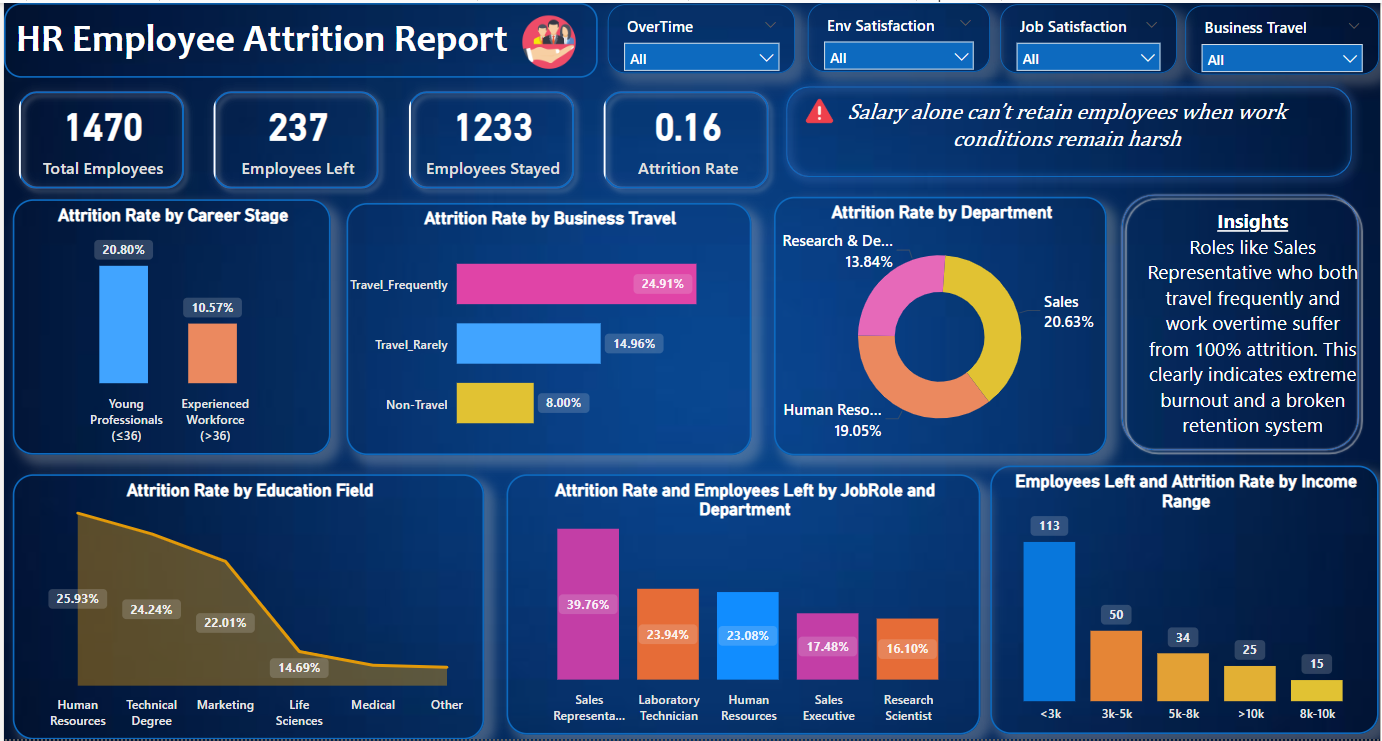

Layout of this report page (visuals, bound fields, positions):
{"tool":"powerbi","page":{"name":"Home","canvas":[1340,717],"ordinal":0},"visuals":[{"type":"cardVisual","fields":{"Data":["HR_Employee_attrition.Total Employees","HR_Employee_attrition.Employees Left","HR_Employee_attrition.Employees Stayed","HR_Employee_attrition.Attrition Rate"]},"box":[0,73.1,762.3,121.8],"z":0},{"type":"textbox","box":[0,0,578.4,73.1],"z":1000},{"type":"columnChart","title":"Attrition Rate by Career Stage","fields":{"Category":["HR_Employee_attrition.Age Group"],"Y":["HR_Employee_attrition.Attrition Rate"]},"box":[8.5,191.2,309.3,248.4],"z":2000},{"type":"clusteredBarChart","title":"Attrition Rate by Business Travel","fields":{"Category":["HR_Employee_attrition.BusinessTravel"],"Y":["HR_Employee_attrition.Attrition Rate"]},"box":[333.7,194.8,394.5,246],"z":3000},{"type":"stackedAreaChart","title":"Attrition Rate by Education Field","fields":{"Category":["HR_Employee_attrition.EducationField"],"Y":["HR_Employee_attrition.Attrition Rate"]},"box":[8.5,459.1,459.1,258.2],"z":4000},{"type":"slicer","fields":{"Values":["HR_Employee_attrition.OverTime"]},"box":[588.2,1.2,182.7,67],"z":5000},{"type":"slicer","fields":{"Values":["HR_Employee_attrition.Env_Satisfaction_Label"]},"box":[783,0,177.8,67],"z":6000},{"type":"columnChart","fields":{"Category":["HR_Employee_attrition.JobRole"],"Series":["HR_Employee_attrition.Department"],"Y":["HR_Employee_attrition.Attrition Rate"]},"box":[489.5,459.1,461.5,253.3],"z":7000},{"type":"slicer","fields":{"Values":["HR_Employee_attrition.Job Satisfaction"]},"box":[970.5,1.2,171.7,67],"z":8000},{"type":"donutChart","fields":{"Y":["HR_Employee_attrition.Attrition Rate"],"Category":["HR_Employee_attrition.Department"]},"box":[750.1,188.7,323.9,252.1],"z":9000},{"type":"shape","box":[1083.8,181.4,241.1,259.4],"z":10000},{"type":"slicer","fields":{"Values":["HR_Employee_attrition.BusinessTravel"]},"box":[1150.8,2.4,188.7,67],"z":11000},{"type":"clusteredColumnChart","fields":{"Category":["HR_Employee_attrition.Income Range"],"Y":["HR_Employee_attrition.Employees Left"]},"box":[960.8,450.6,378.7,261.8],"z":12000},{"type":"shape","box":[750.1,69.4,574.8,112],"z":13000},{"type":"textbox","box":[1108.1,194.8,216.8,264.2],"z":14000},{"type":"textbox","box":[770.8,90.1,528.5,71.8],"z":15000},{"type":"image","box":[770.8,80.4,47.5,49.9],"z":16000},{"type":"image","box":[478.6,7.3,104.7,62.1],"z":17000}]}

Visuals, with their boxes in screenshot pixels (x1, y1, x2, y2), scaled from the page's 1340x717 canvas onto the 1382x741 screenshot:
cardVisual - HR_Employee_attrition.Total Employees x HR_Employee_attrition.Employees Left: bbox=(0, 76, 786, 201)
textbox: bbox=(0, 0, 597, 76)
"Attrition Rate by Career Stage" columnChart: bbox=(9, 198, 328, 454)
"Attrition Rate by Business Travel" clusteredBarChart: bbox=(344, 201, 751, 456)
"Attrition Rate by Education Field" stackedAreaChart: bbox=(9, 474, 482, 740)
slicer - HR_Employee_attrition.OverTime: bbox=(607, 1, 795, 70)
slicer - HR_Employee_attrition.Env_Satisfaction_Label: bbox=(808, 0, 991, 69)
columnChart - HR_Employee_attrition.JobRole x HR_Employee_attrition.Department: bbox=(505, 474, 981, 736)
slicer - HR_Employee_attrition.Job Satisfaction: bbox=(1001, 1, 1178, 70)
donutChart - HR_Employee_attrition.Attrition Rate x HR_Employee_attrition.Department: bbox=(774, 195, 1108, 456)
shape: bbox=(1118, 187, 1366, 456)
slicer - HR_Employee_attrition.BusinessTravel: bbox=(1187, 2, 1381, 72)
clusteredColumnChart - HR_Employee_attrition.Income Range x HR_Employee_attrition.Employees Left: bbox=(991, 466, 1381, 736)
shape: bbox=(774, 72, 1366, 187)
textbox: bbox=(1143, 201, 1366, 474)
textbox: bbox=(795, 93, 1340, 167)
image: bbox=(795, 83, 844, 135)
image: bbox=(494, 8, 602, 72)
